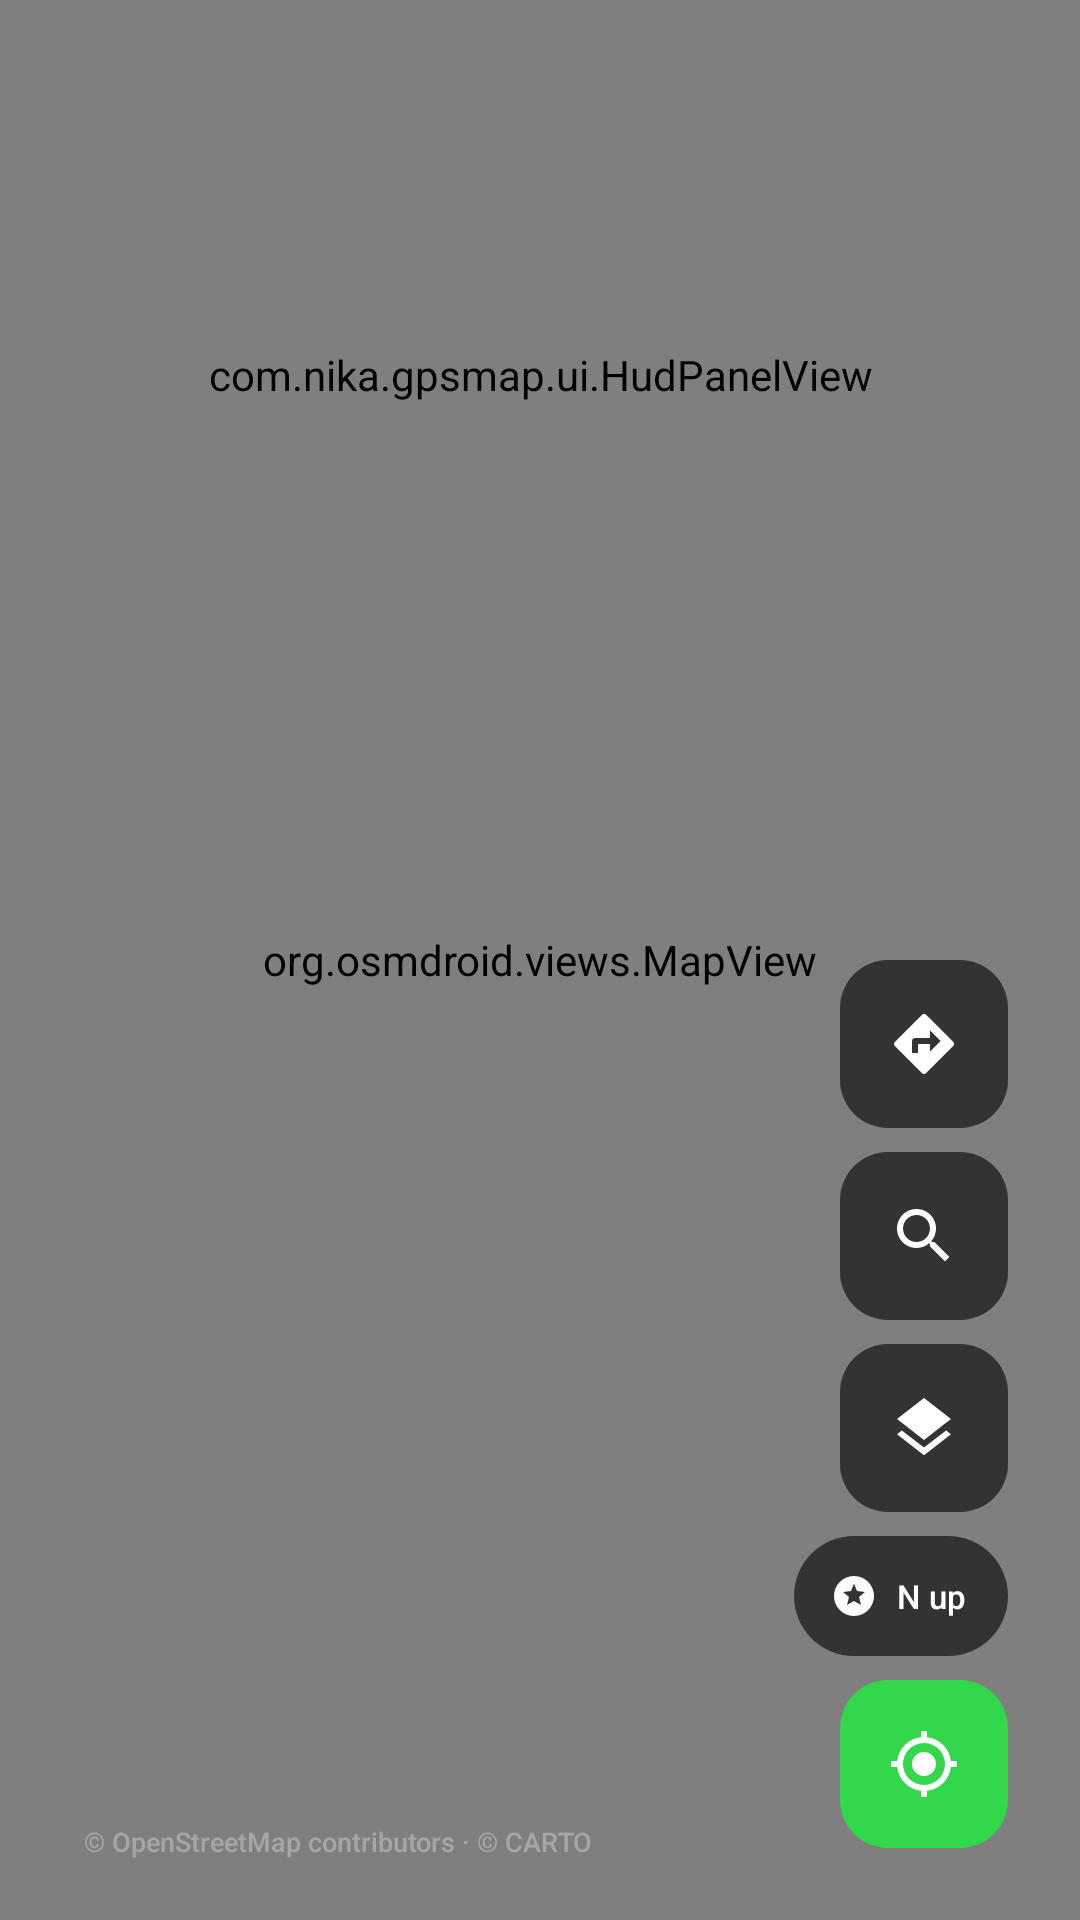

Where icons sit on this 1080px×1920px app screen, as (x1, y1, x2, y2):
Follow my location: (840, 1680, 1008, 1848)
Map style and offline tiles: (840, 1344, 1008, 1512)
route: (840, 960, 1008, 1128)
Search place: (840, 1152, 1008, 1320)
